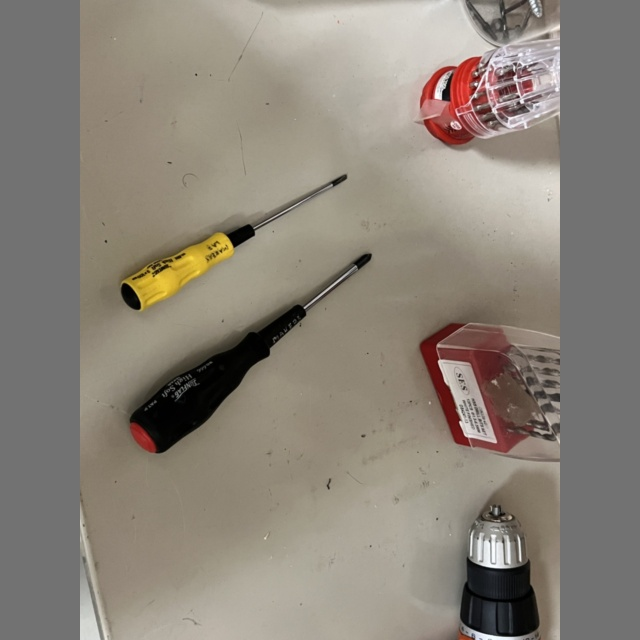drill: (458, 505, 540, 640)
screwdriver: (130, 253, 372, 453), (121, 175, 347, 310)
